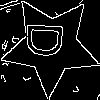D: (26, 20, 72, 60)
